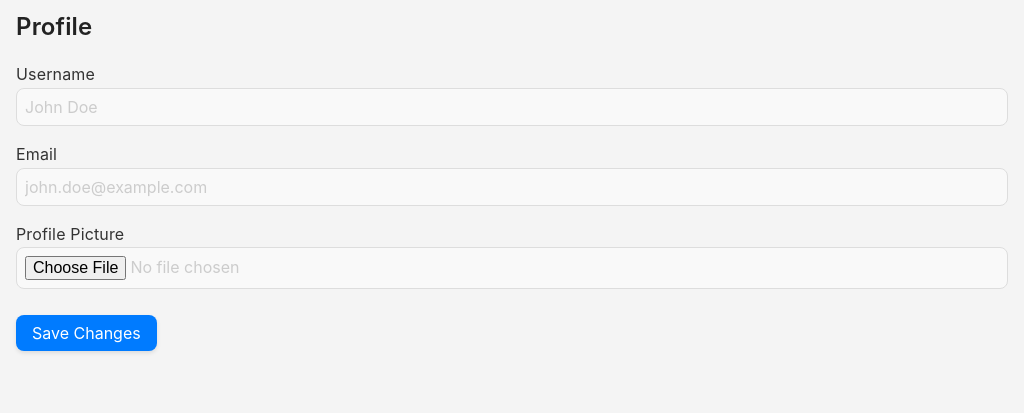
Test: Profile Component › validates email format before submitting
Replace the text in the field labelled "Email" with "invalid-email": x=512, y=187 [16,168,1008,206]
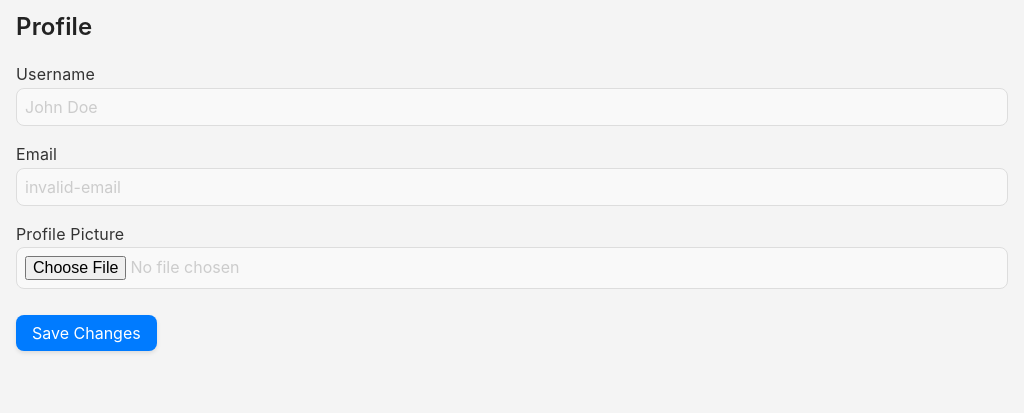
Click the button "Save Changes": x=86, y=333 [16,315,157,351]
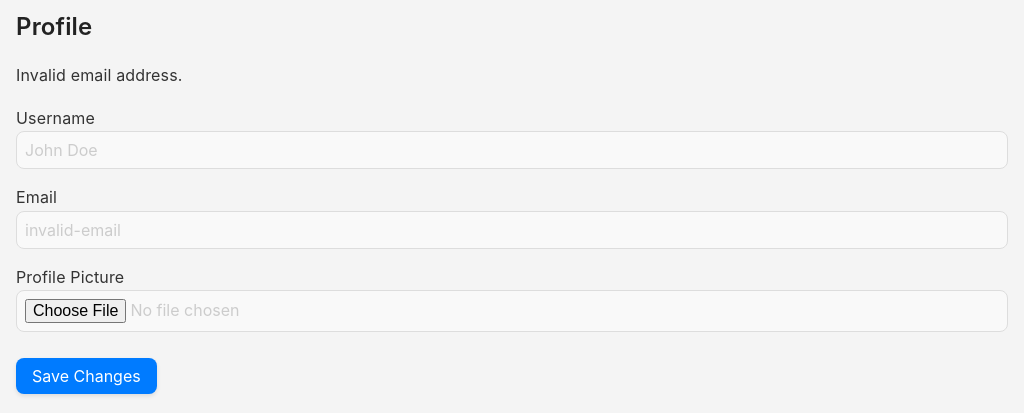
Now the text "Invalid email address." is shown, box [16,65,182,85]
